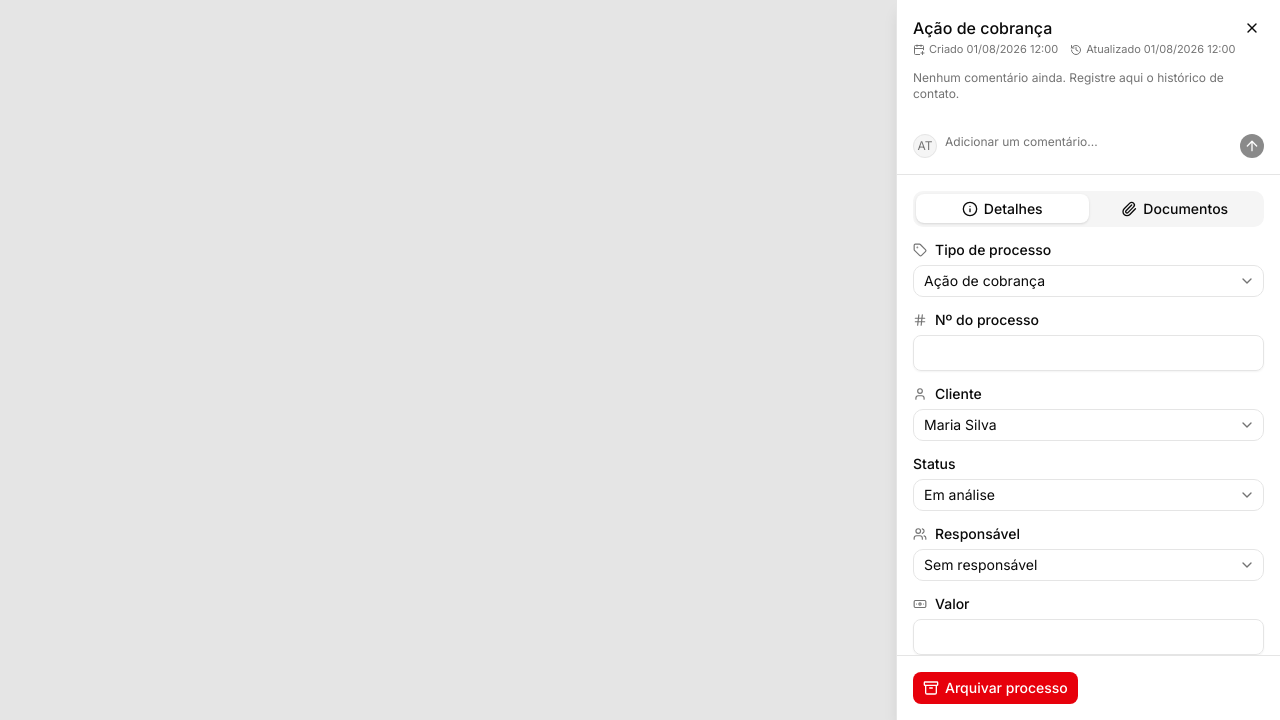
CasoSheet › mostra os documentos do processo e do cliente ao trocar para a aba Documentos
What coordinates should you click on to do the following:
click the tab "Documentos"
I would click on:
 (1175, 209)
Its box is left=1088, top=194, right=1261, bottom=223.
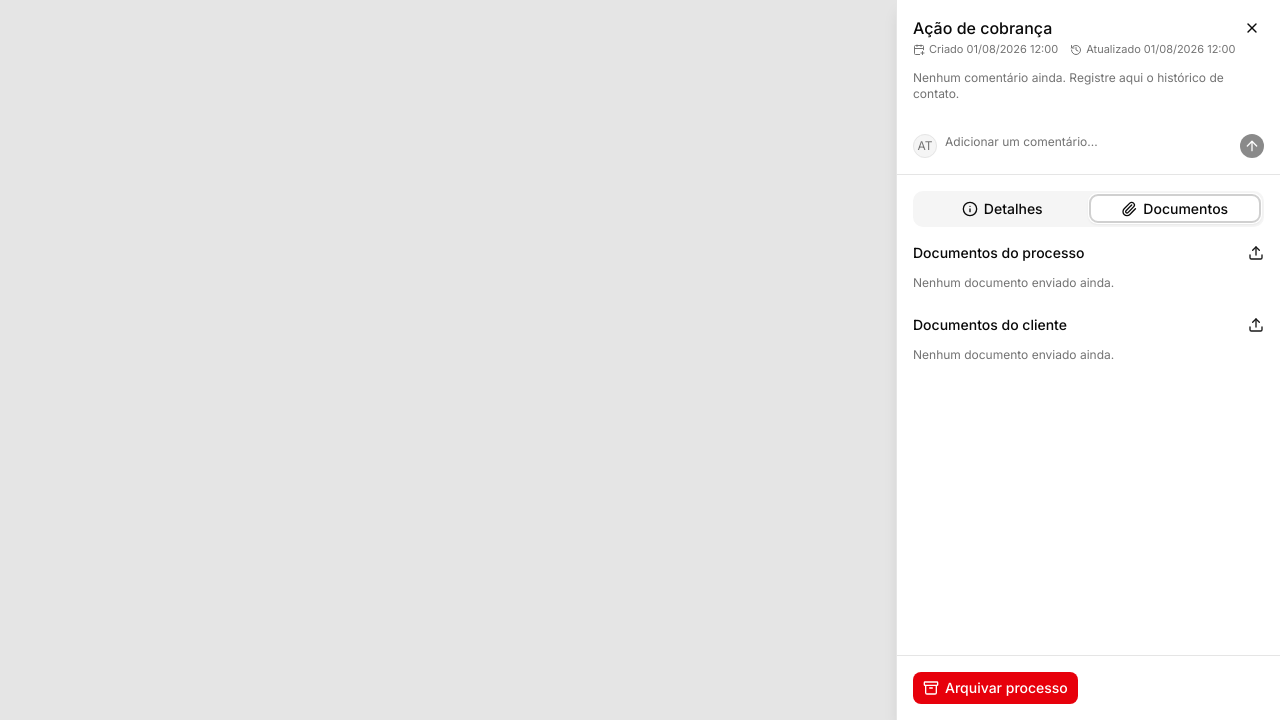
Expected: the heading "Documentos do processo" is shown, left=913, top=243, right=1084, bottom=263
Expected: the heading "Documentos do cliente" is shown, left=913, top=315, right=1067, bottom=335
